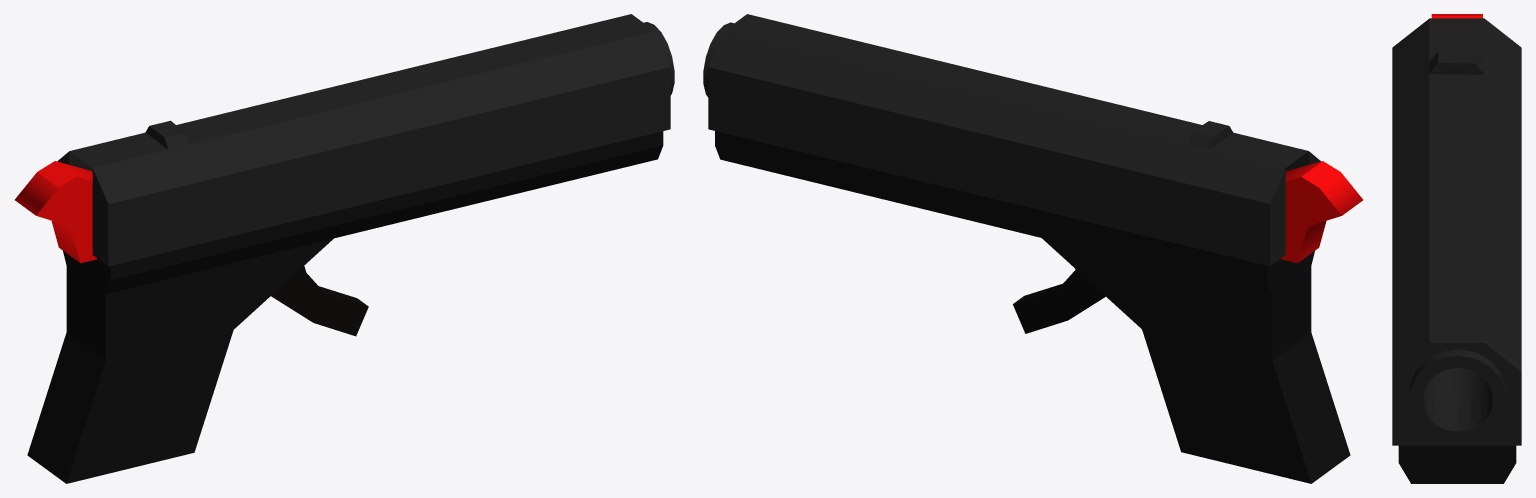
File: gunRed.FBX
The picture shows the model from 3 angles, left to right: view 1: azimuth 30°, elevation 25°; view 2: azimuth 150°, elevation 25°; view 3: azimuth 270°, elevation 25°; orthographic projection. The views are drawn at different scales.
Visible parts, largest first — view 1: Box001, Box002, Box004, Box003; view 2: Box001, Box002, Box004, Box003; view 3: Box001, Box002, Box004.
Part boxes in pixels (bbox=[...]): Box001: bbox=[57, 14, 674, 266]; Box002: bbox=[27, 131, 663, 483]; Box004: bbox=[15, 161, 96, 263]; Box003: bbox=[271, 266, 368, 336]; Box001: bbox=[703, 14, 1320, 266]; Box002: bbox=[715, 131, 1350, 483]; Box004: bbox=[1281, 161, 1362, 263]; Box003: bbox=[1013, 269, 1105, 333]; Box001: bbox=[1392, 18, 1521, 445]; Box002: bbox=[1398, 445, 1516, 483]; Box004: bbox=[1431, 14, 1482, 18].
Bounding box in the file's own units: 527 × 249 × 79.3.
